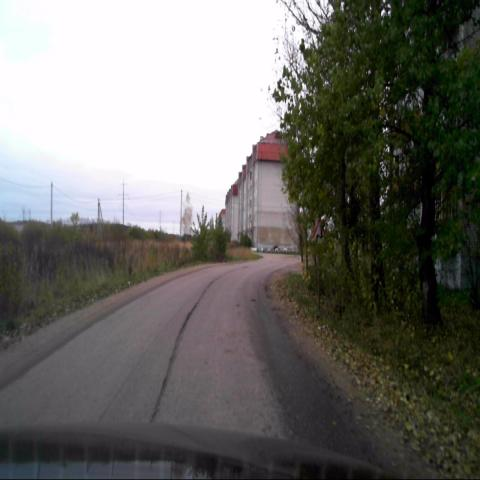1_12: (311, 218, 328, 247)
